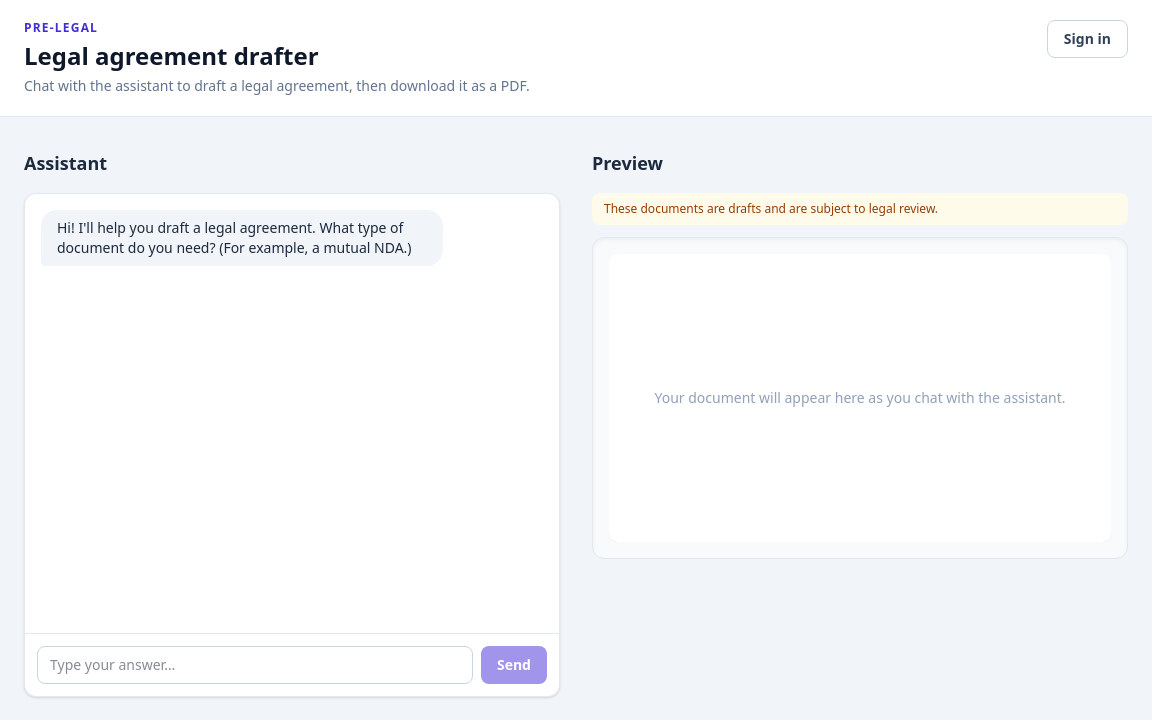
Scenario: Home page › fetches and renders a generic document template
The image size is (1152, 720).
Type "I want a cloud service agreement" into the field named "Message".
click(255, 665); type("I want a cloud service agreement")  # box [37,646,473,684]
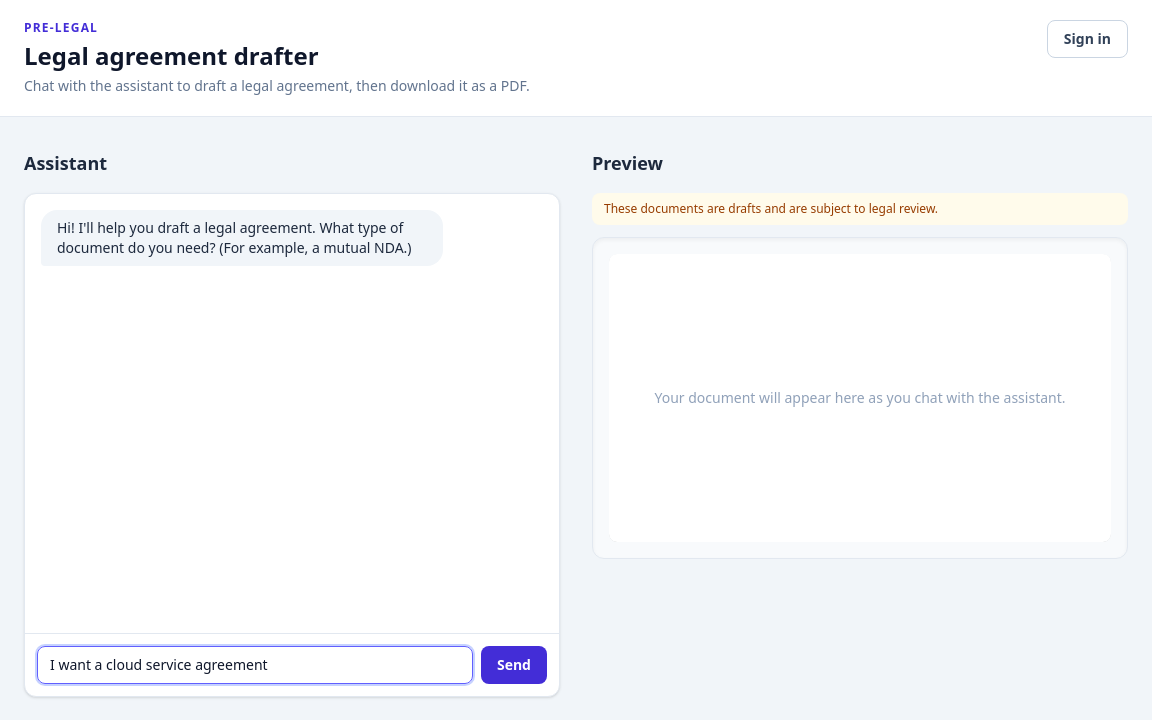
Click the button "Send".
click(514, 665)  # box [481,646,547,684]
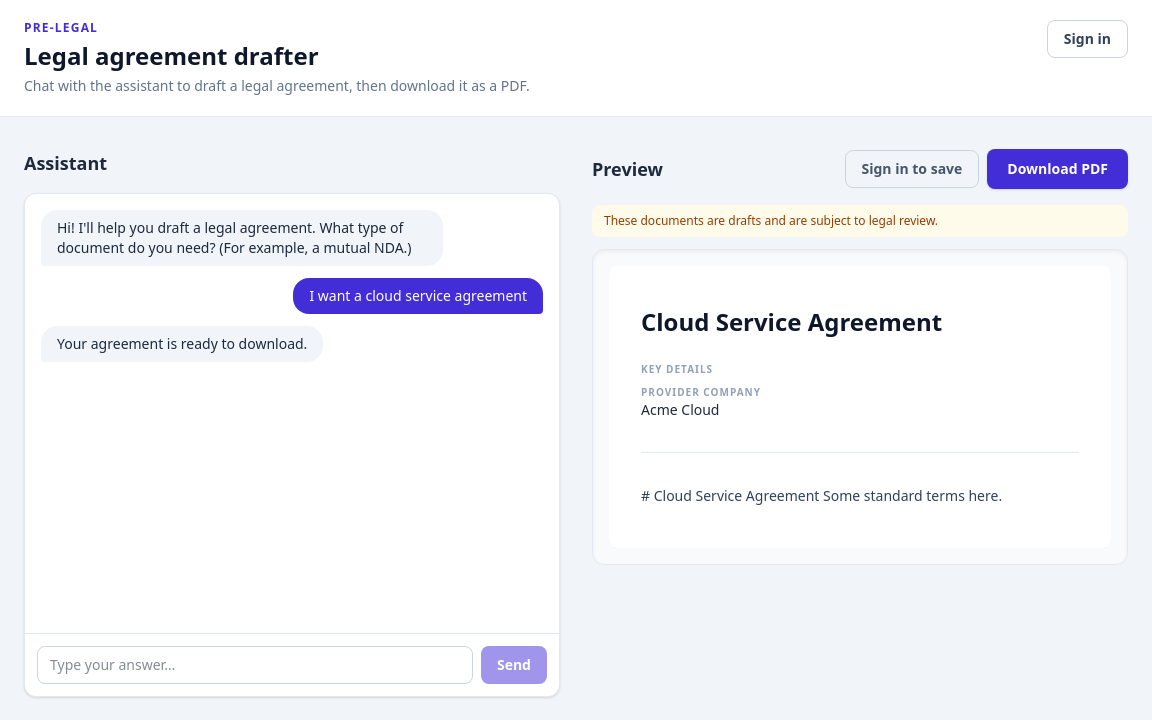
Expected: the heading "Cloud Service Agreement" is shown, [641,305,942,338]
Expected: the text "Acme Cloud" is shown, [641,400,720,419]
Expected: the button "Download PDF" is shown, [987,149,1128,189]
